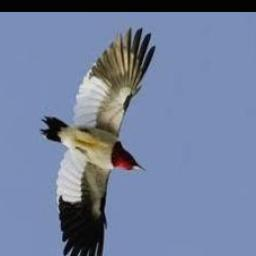Woodpecker: (39, 28, 155, 256)
